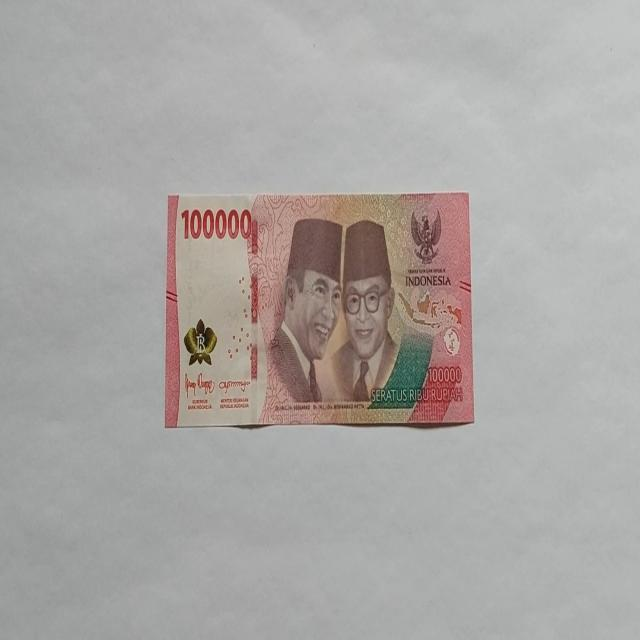seratus ribu rupiah: (164, 190, 474, 430)
